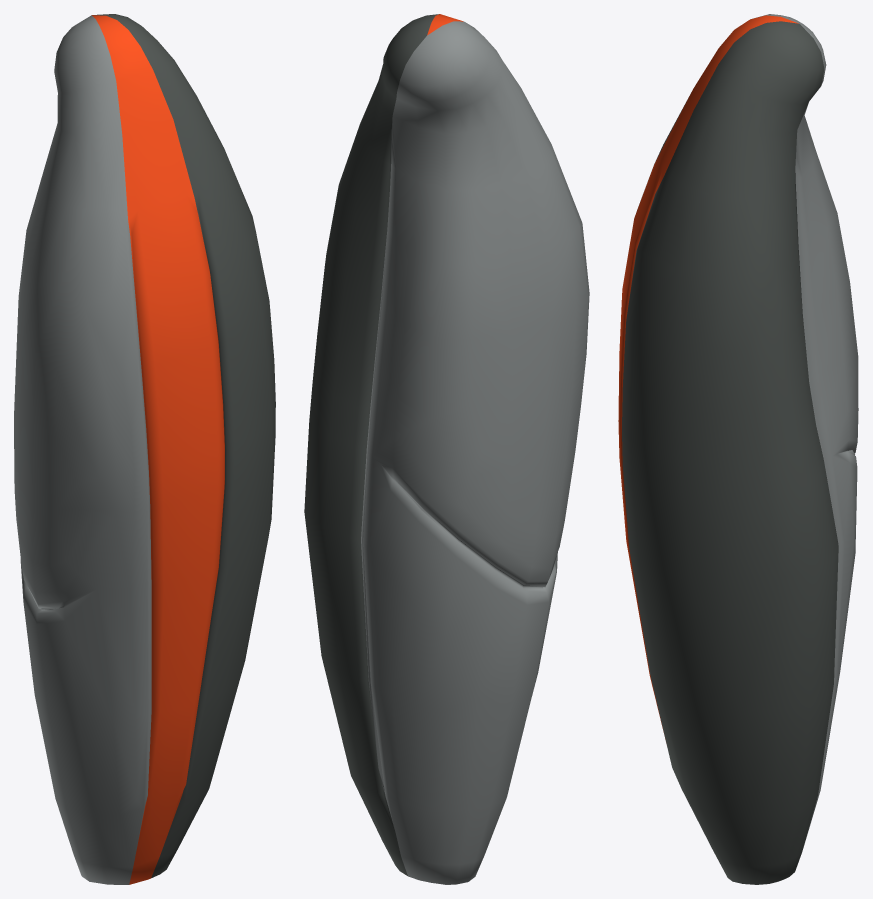
The model's file is xsens_RightUpperLeg.dae.
3 views of the same model, side by side, from view 1: azimuth 30°, elevation 25°; view 2: azimuth 150°, elevation 25°; view 3: azimuth 270°, elevation 25° (orthographic).
Parts seen in each view (by area): view 1: RightUpperLeg; view 2: RightUpperLeg; view 3: RightUpperLeg.
Part boxes in pixels (x1=…): RightUpperLeg: x1=14, y1=14, x2=275, y2=884; RightUpperLeg: x1=304, y1=14, x2=589, y2=884; RightUpperLeg: x1=618, y1=14, x2=858, y2=884.
Size of the model in its own units: 0.1274 by 0.1123 by 0.4383.
